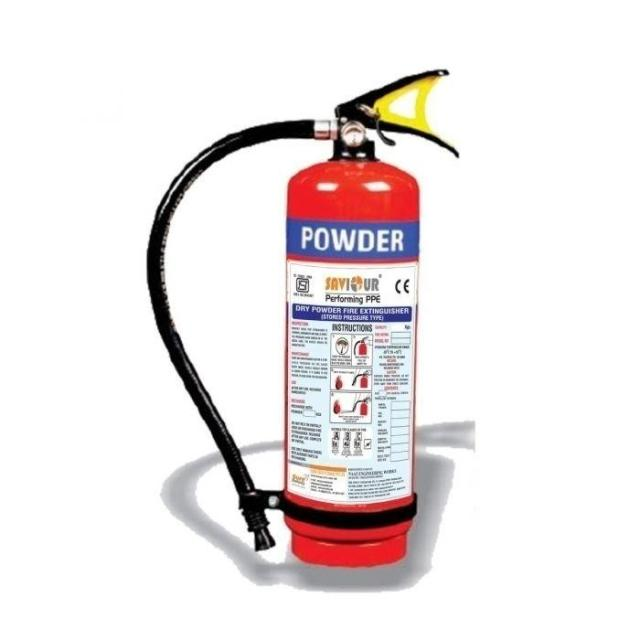fire_extinguisher: (139, 65, 462, 572)
